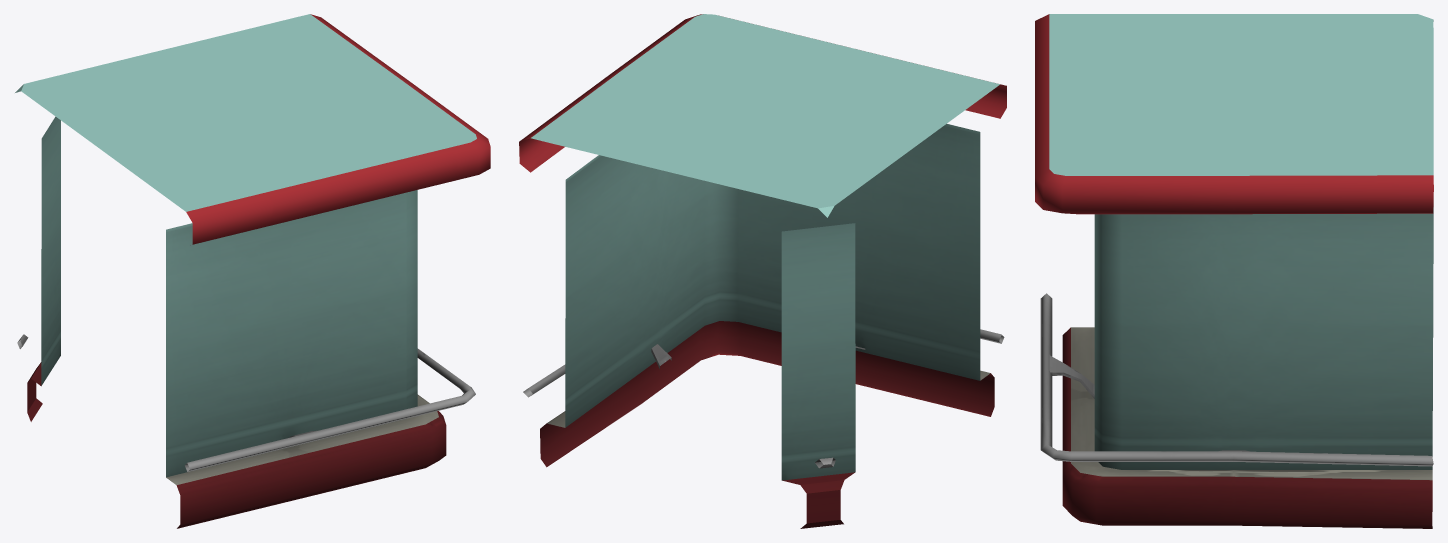
File: CounterCorner.FBX
3 renders of one model, left to right at view 1: azimuth 30°, elevation 25°; view 2: azimuth 150°, elevation 25°; view 3: azimuth 270°, elevation 25°, orthographic. The views are drawn at different scales.
Visible parts, largest first — view 1: Counter Corner; view 2: Counter Corner; view 3: Counter Corner.
Part boxes in pixels (x1,y1,x2,y2): Counter Corner: (15, 14, 490, 528); Counter Corner: (519, 14, 1006, 528); Counter Corner: (1035, 14, 1433, 528).
Bounding box in the file's own units: 39.41 × 39.59 × 39.51.
